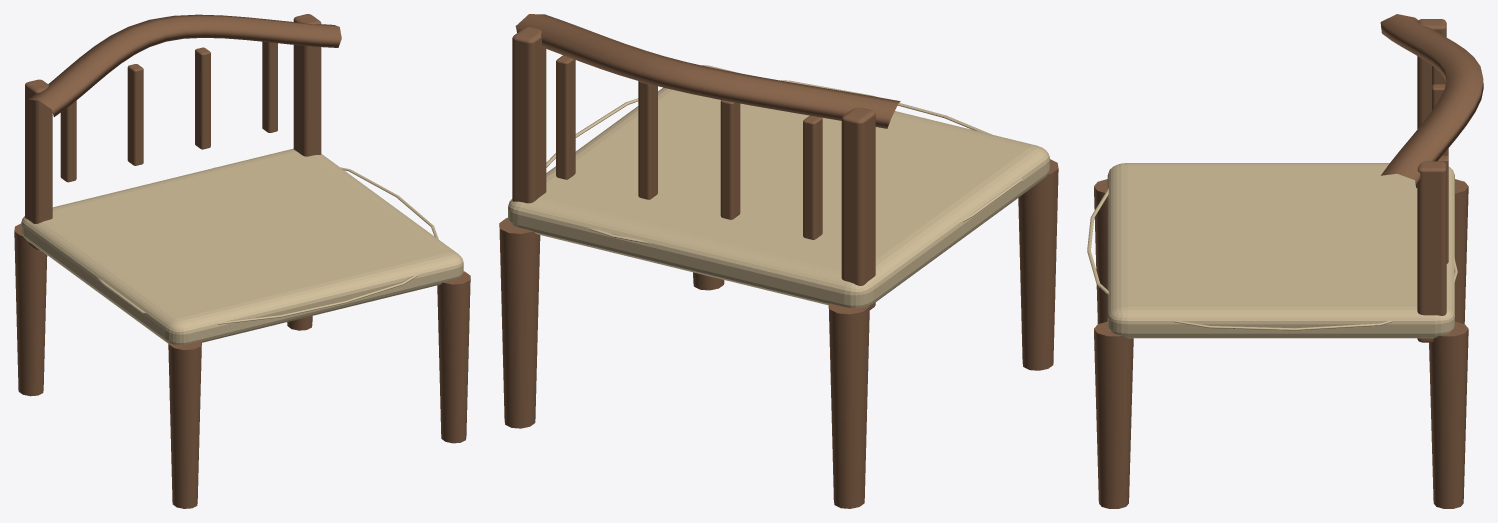
The model's file is chair-6-2.glb.
3 renders of one model, left to right at view 1: azimuth 30°, elevation 25°; view 2: azimuth 150°, elevation 25°; view 3: azimuth 270°, elevation 25°, orthographic. The views are drawn at different scales.
Parts seen in each view (by area): view 1: tailored-cushion, part; view 2: tailored-cushion, part; view 3: tailored-cushion, part.
Part boxes in pixels (<box>): tailored-cushion: <box>21,148,463,344</box>; part: <box>14,14,470,508</box>; tailored-cushion: <box>508,65,1049,307</box>; part: <box>499,14,1058,508</box>; tailored-cushion: <box>1087,163,1457,338</box>; part: <box>1094,14,1483,508</box>.
Size of the model in its own units: 1 by 1 by 1.
